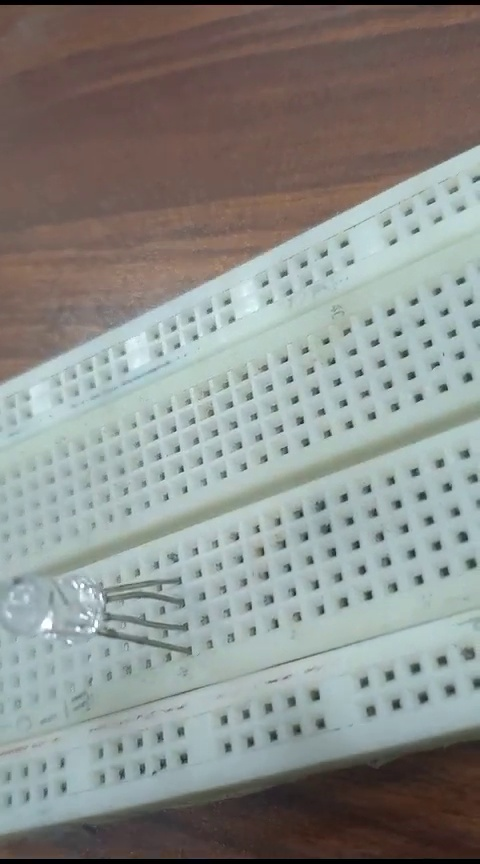LED: (2, 567, 194, 663)
